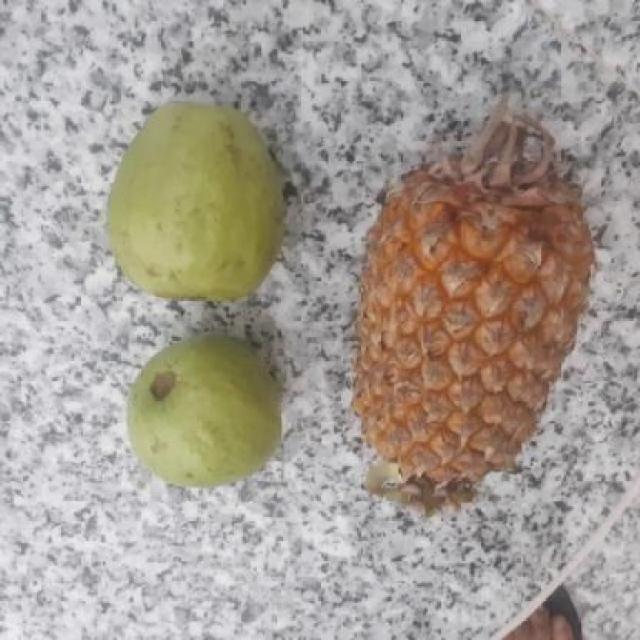guava: (101, 102, 292, 298), (117, 338, 283, 487)
pineapple: (347, 162, 596, 502)
